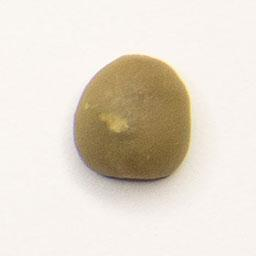premium: (70, 50, 196, 185)
